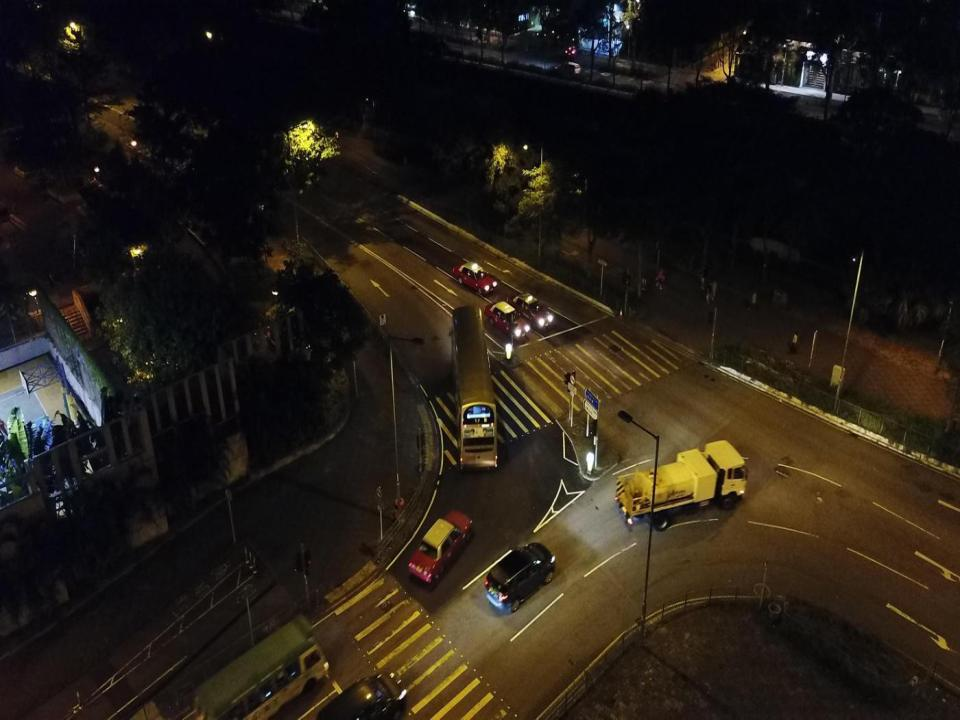bus: (193, 614, 330, 719), (448, 305, 498, 471)
car: (484, 541, 556, 615), (407, 507, 473, 584), (317, 671, 406, 719), (506, 290, 554, 334), (484, 300, 532, 342), (452, 260, 498, 296), (554, 60, 581, 78)
truck: (615, 439, 747, 532)
